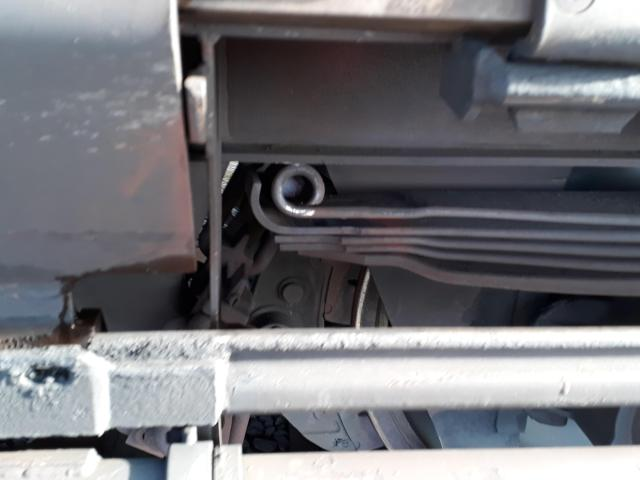blattfederww: (241, 171, 622, 292)
